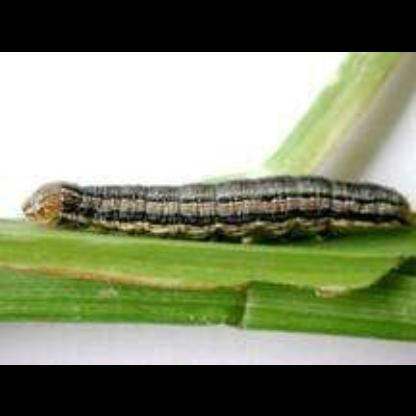oruga: (12, 174, 416, 238)
